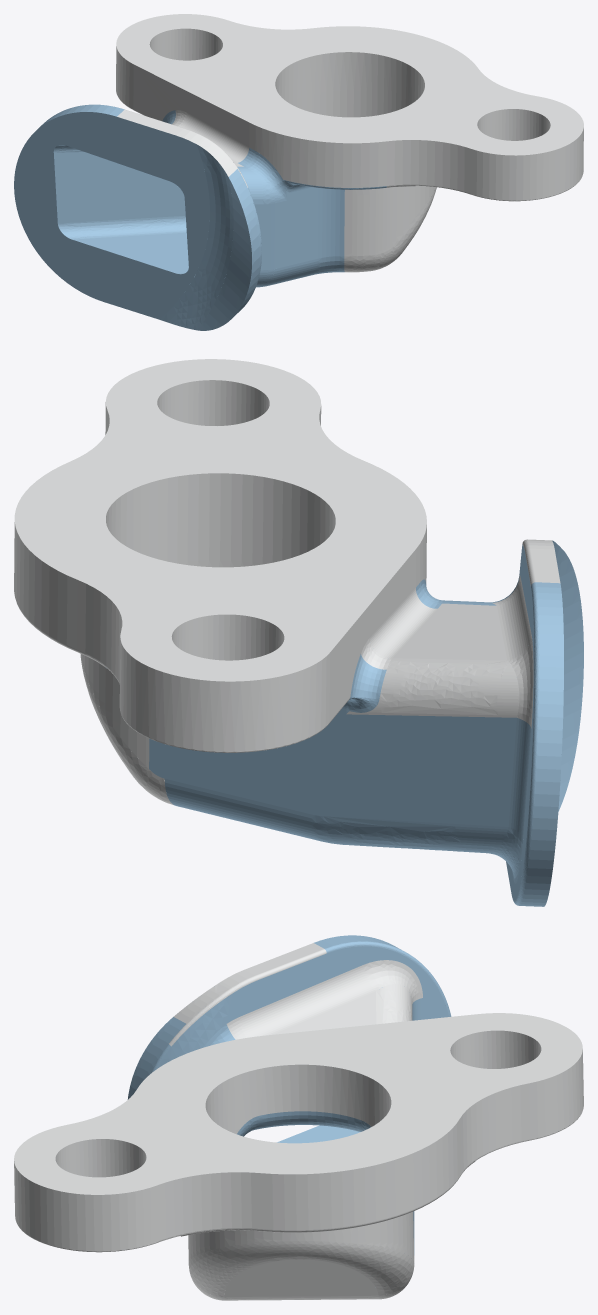
3 renders of one model, top to bottom at view 1: azimuth 30°, elevation 25°; view 2: azimuth 150°, elevation 25°; view 3: azimuth 270°, elevation 25°, orthographic. The views are drawn at different scales.
Parts seen in each view (by area): view 1: steel_0, accent-faces_1; view 2: steel_0, accent-faces_1; view 3: steel_0, accent-faces_1.
Boxes of the visible parts, x1=… form: steel_0: x1=116, y1=14, x2=583, y2=272; accent-faces_1: x1=14, y1=104, x2=386, y2=330; steel_0: x1=14, y1=359, x2=560, y2=804; accent-faces_1: x1=105, y1=540, x2=583, y2=906; steel_0: x1=14, y1=943, x2=583, y2=1300; accent-faces_1: x1=127, y1=935, x2=451, y2=1255.
Bounding box in the file's own units: 76.66 × 35.17 × 72.03.
